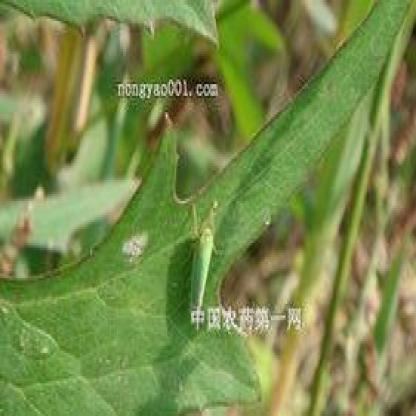Green-Leafhopper: (182, 205, 222, 325)
